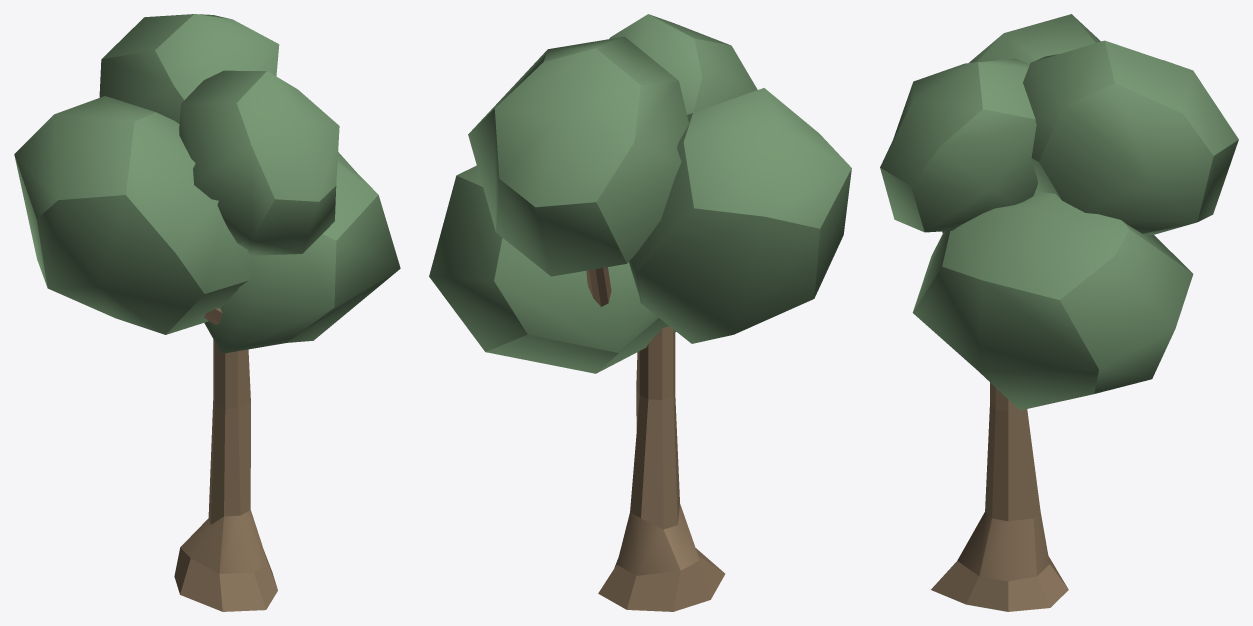
File: tree02.fbx
3 views of the same model, side by side, from view 1: azimuth 30°, elevation 25°; view 2: azimuth 150°, elevation 25°; view 3: azimuth 270°, elevation 25° (orthographic). The views are drawn at different scales.
Parts seen in each view (by area): view 1: treeLeaves05, treeLeaves02, treeLeaves04, treeTrunk02, treeLeaves03; view 2: treeLeaves05, treeLeaves03, treeLeaves04, treeTrunk02, treeLeaves02, treeBranch01; view 3: treeLeaves04, treeLeaves03, treeLeaves02, treeTrunk02, treeLeaves05.
Part boxes in pixels (x1,y1,x2,y2): treeLeaves05: (14, 96, 253, 334); treeLeaves02: (179, 70, 339, 255); treeLeaves04: (204, 152, 400, 353); treeTrunk02: (174, 339, 277, 611); treeLeaves03: (99, 14, 279, 123); treeLeaves05: (629, 88, 851, 343); treeLeaves03: (468, 36, 688, 276); treeLeaves04: (429, 165, 676, 373); treeTrunk02: (598, 326, 725, 611); treeLeaves02: (609, 14, 757, 114); treeBranch01: (586, 267, 611, 306); treeLeaves04: (912, 192, 1193, 410); treeLeaves03: (1023, 40, 1238, 235); treeLeaves02: (880, 58, 1037, 232); treeTrunk02: (931, 382, 1068, 611); treeLeaves05: (942, 14, 1100, 232).
Size of the model in its own units: 1.95 by 2.92 by 1.71.
